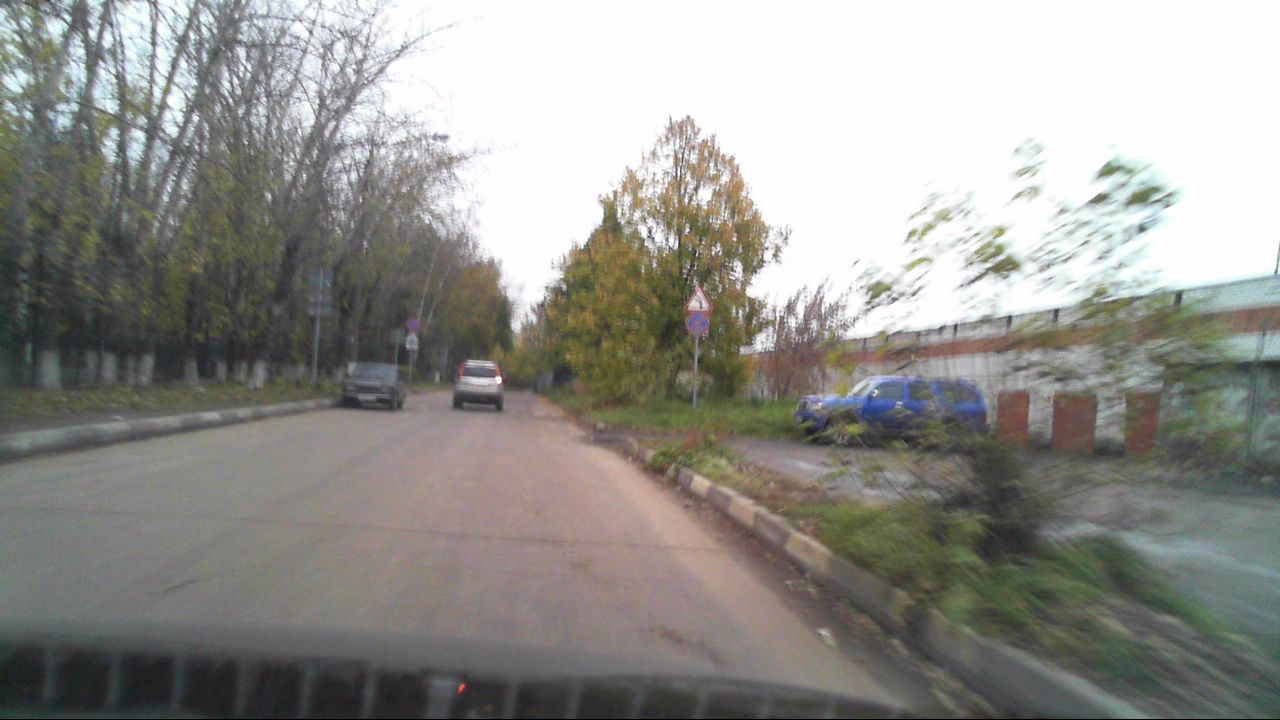No Parking: (685, 313, 709, 335)
